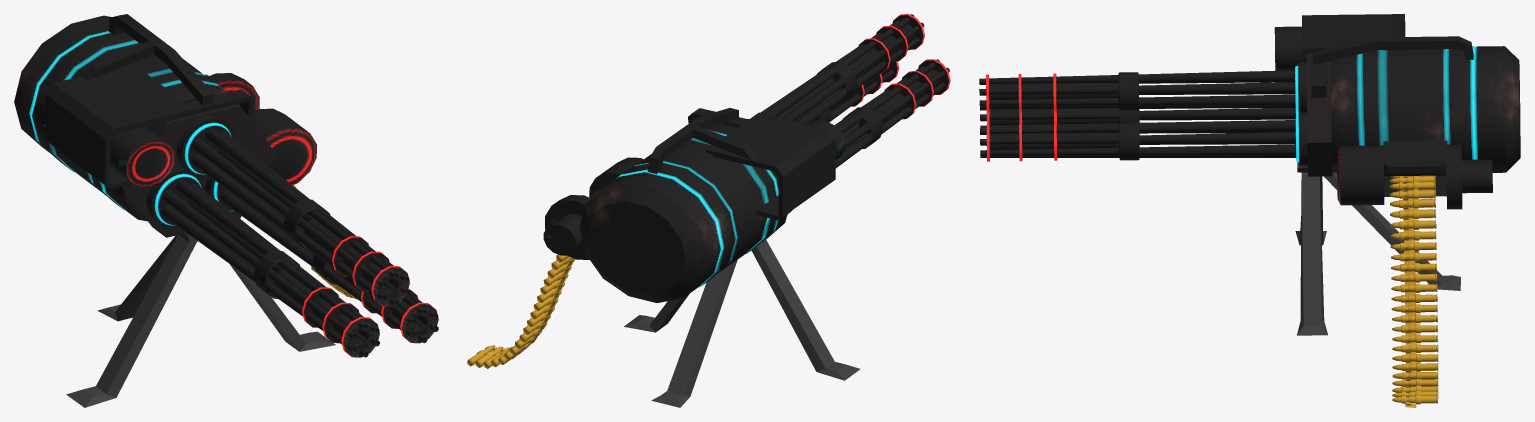
Rendered from ПУЛЕМЕТ  три ствола  (2).fbx.
3 views of the same model, side by side, from view 1: azimuth 30°, elevation 25°; view 2: azimuth 150°, elevation 25°; view 3: azimuth 270°, elevation 25° (orthographic). The views are drawn at different scales.
Visible parts, largest first — view 1: ножки как у твоей бывшей.001, на хую вертела, ножки как у твоей бывшей.002; view 2: ножки как у твоей бывшей.001, на хую вертела, ножки как у твоей бывшей.002, пульки; view 3: ножки как у твоей бывшей.001, на хую вертела, пульки, ножки как у твоей бывшей.002.
Part boxes in pixels (<box>): ножки как у твоей бывшей.001: <box>14,14,316,242</box>; на хую вертела: <box>146,115,438,357</box>; ножки как у твоей бывшей.002: <box>66,235,335,407</box>; ножки как у твоей бывшей.001: <box>543,108,845,302</box>; на хую вертела: <box>748,14,950,212</box>; ножки как у твоей бывшей.002: <box>624,240,859,407</box>; пульки: <box>467,255,575,368</box>; ножки как у твоей бывшей.001: <box>1274,14,1520,209</box>; на хую вертела: <box>979,62,1307,165</box>; пульки: <box>1389,175,1438,407</box>; ножки как у твоей бывшей.002: <box>1295,172,1460,335</box>.
Size of the model in its own units: 99.4 by 80.93 by 147.
